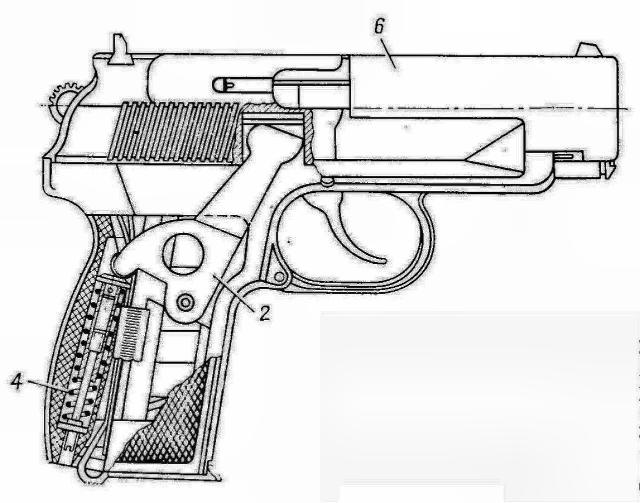pistol: (41, 38, 619, 472)
